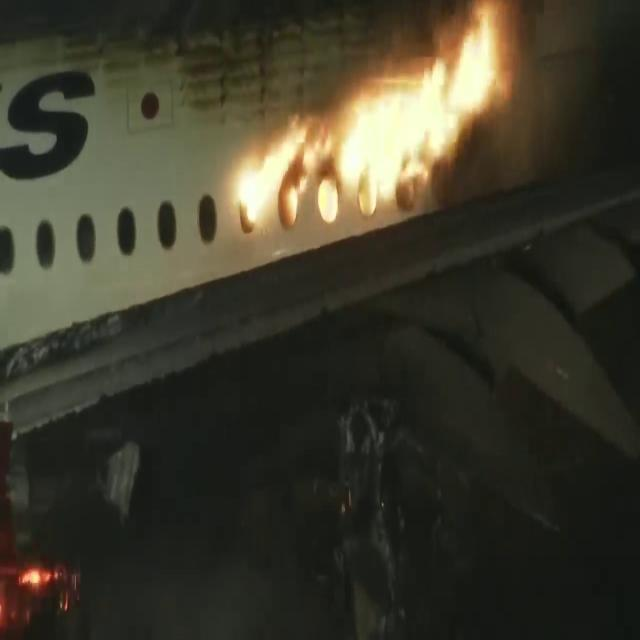Fire: (230, 3, 508, 230)
